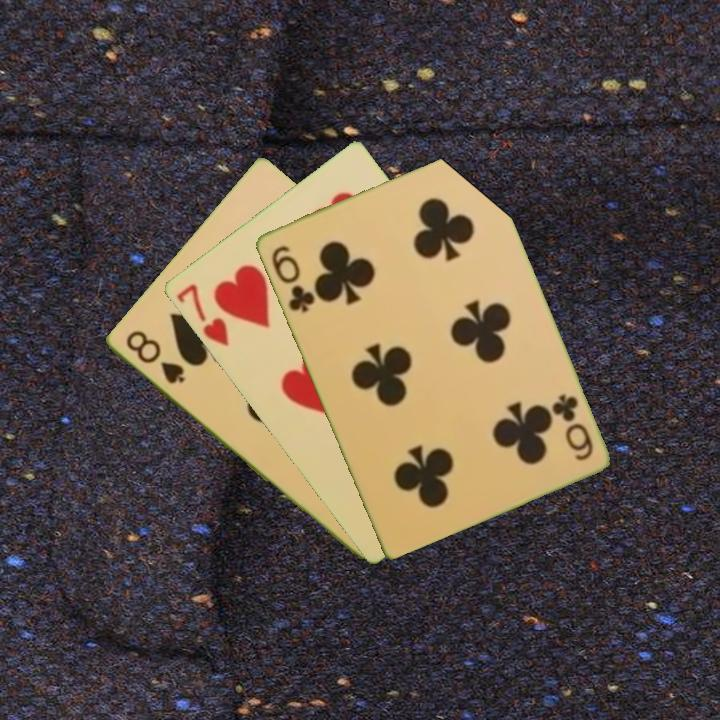6c: (267, 241, 318, 315), (548, 390, 596, 464)
7h: (172, 280, 232, 349)
8s: (121, 326, 188, 387)
